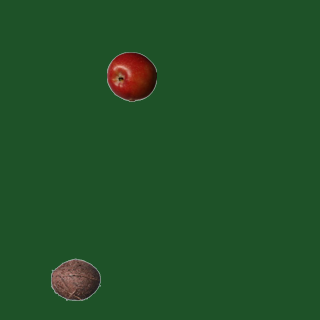Apple Braeburn: (106, 51, 156, 101)
Cocos: (50, 254, 100, 304)
